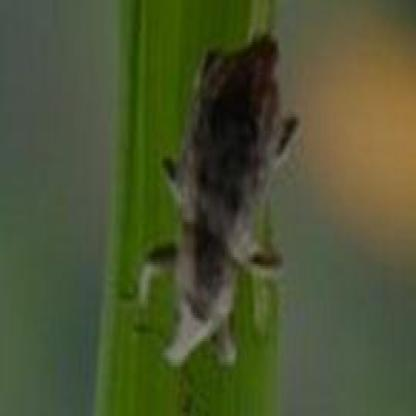rice-bug: (149, 32, 307, 370)
